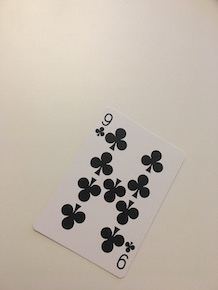NineOfClubs: (25, 104, 189, 279)
